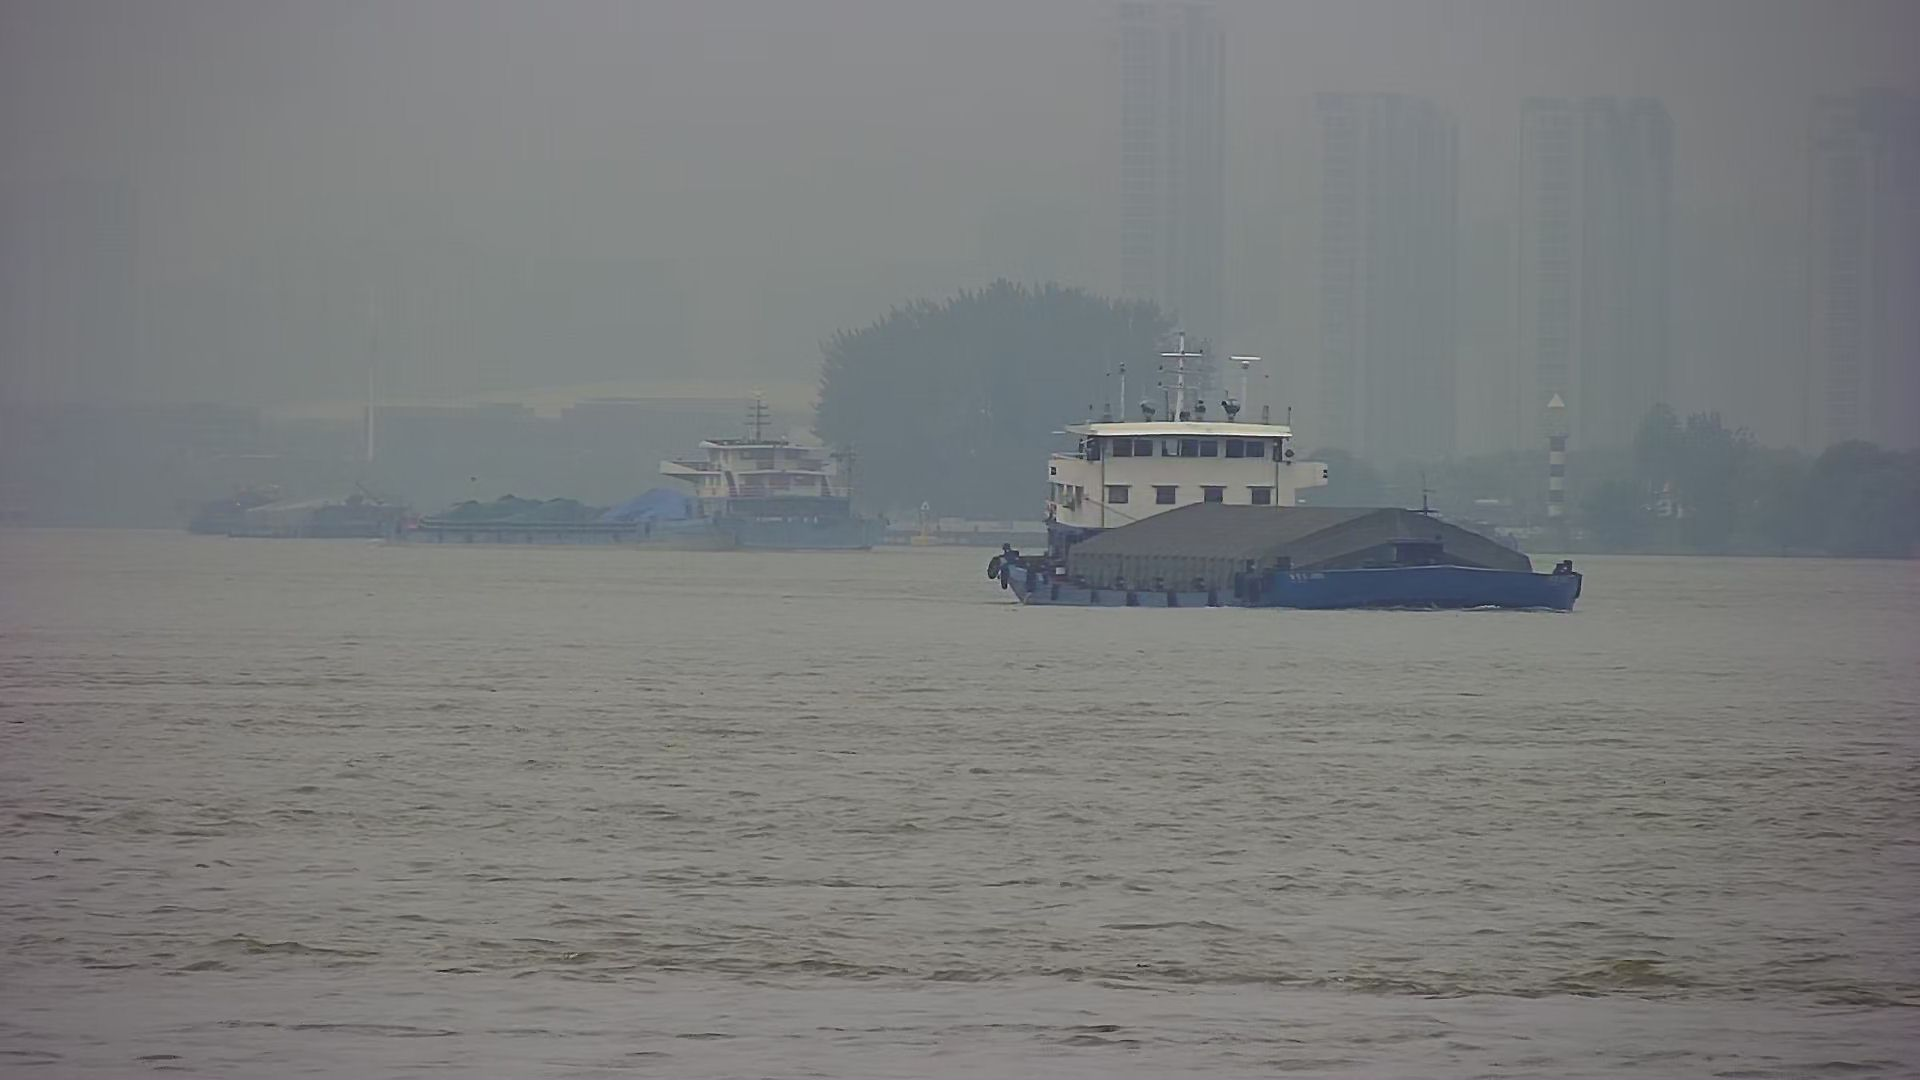ship: (967, 365, 1609, 622), (396, 413, 905, 553), (179, 475, 388, 555)
